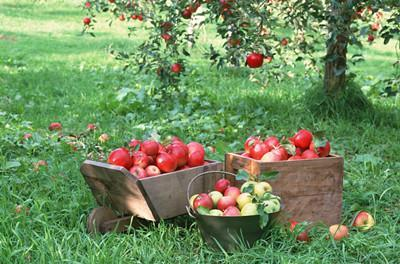apple: (107, 149, 133, 168), (155, 153, 177, 172), (191, 193, 213, 212), (353, 211, 373, 230), (293, 129, 313, 148), (141, 138, 159, 155), (245, 52, 263, 68), (328, 223, 348, 237), (217, 195, 235, 209)
